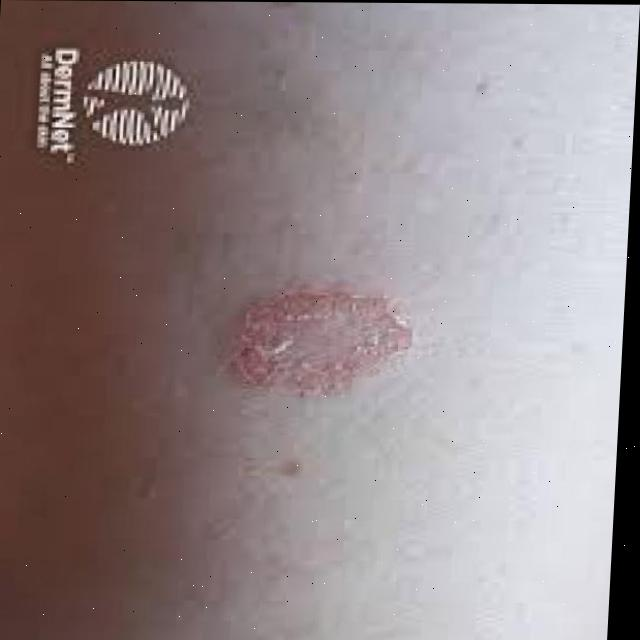Eczema: (238, 286, 398, 378)
